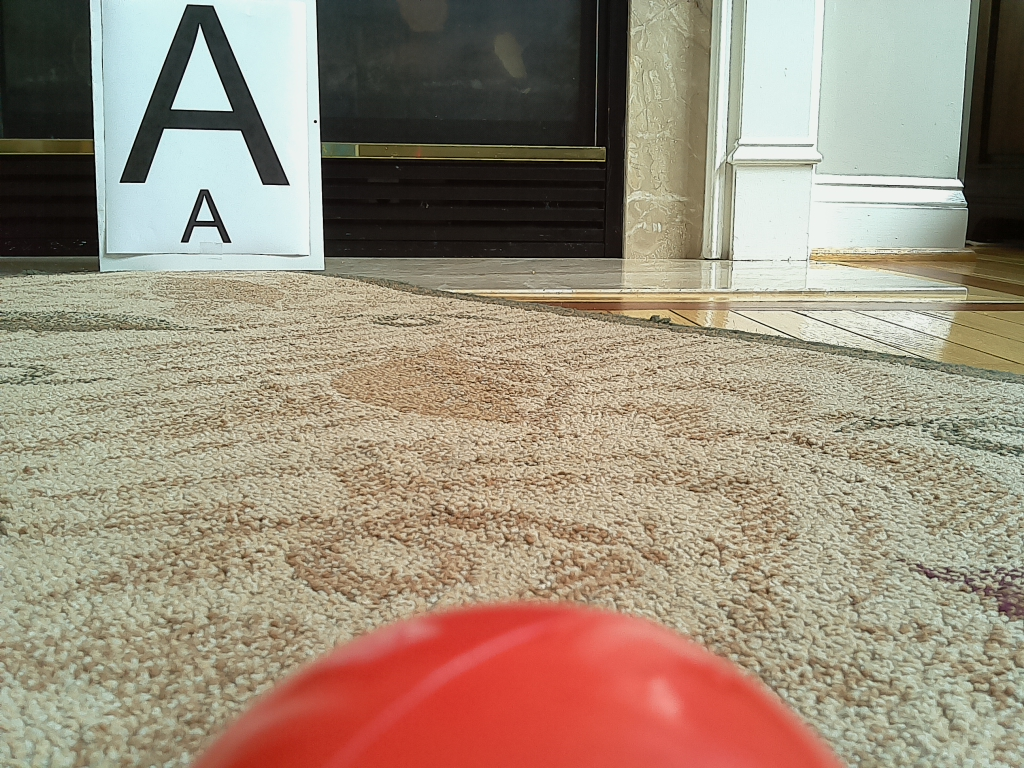letter: (125, 3, 291, 185)
